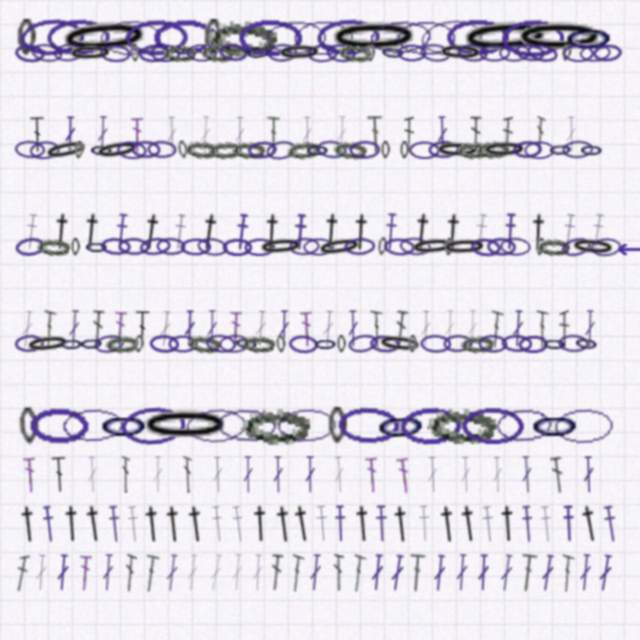chain: (57, 16, 152, 60), (458, 16, 553, 59), (327, 18, 421, 57), (513, 19, 606, 56), (139, 407, 232, 444), (418, 16, 486, 59), (19, 17, 85, 58), (367, 17, 433, 58), (120, 405, 186, 446), (208, 19, 277, 57), (241, 407, 310, 445), (184, 406, 249, 446), (427, 407, 496, 444), (98, 18, 163, 57), (60, 406, 125, 445), (46, 18, 110, 57), (316, 18, 380, 57), (214, 406, 278, 445), (275, 406, 339, 445), (337, 406, 401, 445), (399, 406, 463, 445), (552, 406, 616, 445), (124, 19, 188, 57), (493, 406, 555, 445), (264, 19, 327, 57), (501, 19, 564, 57), (153, 19, 217, 56), (238, 19, 302, 56), (446, 19, 510, 56), (461, 407, 525, 444), (395, 19, 458, 56), (29, 407, 90, 445), (292, 19, 354, 56), (374, 406, 428, 446), (563, 19, 615, 57), (98, 407, 150, 444), (529, 407, 581, 444), (43, 137, 90, 163), (94, 138, 141, 162), (316, 235, 363, 259), (570, 236, 616, 258), (25, 333, 71, 355), (377, 333, 423, 355), (258, 236, 304, 257), (410, 236, 456, 257), (68, 43, 113, 63), (442, 237, 487, 257), (277, 43, 322, 62), (438, 43, 483, 62), (482, 140, 527, 159), (18, 407, 40, 445), (525, 41, 559, 65), (435, 141, 480, 159), (560, 235, 593, 259), (286, 139, 321, 161), (514, 41, 546, 64), (347, 332, 379, 355), (30, 42, 63, 64), (419, 42, 452, 64), (196, 236, 229, 258), (325, 42, 357, 64), (265, 139, 297, 161), (93, 333, 125, 355), (17, 19, 36, 56), (204, 19, 223, 56), (328, 407, 347, 444), (200, 43, 234, 63), (338, 43, 372, 63), (208, 140, 242, 160), (333, 140, 367, 160), (456, 140, 490, 160), (105, 334, 139, 354), (187, 334, 221, 354), (460, 334, 494, 354), (53, 42, 85, 63), (14, 236, 46, 257), (139, 236, 171, 257), (399, 236, 431, 257), (205, 333, 237, 354), (218, 42, 249, 63), (316, 139, 347, 160), (99, 43, 131, 63), (138, 43, 170, 63), (579, 43, 611, 63), (383, 237, 415, 257), (590, 237, 622, 257), (185, 140, 218, 159), (476, 140, 509, 159), (14, 43, 45, 63), (307, 43, 338, 63), (457, 43, 488, 63), (592, 43, 623, 63), (29, 140, 60, 160), (116, 140, 147, 160), (247, 140, 278, 160), (470, 237, 501, 257), (288, 334, 319, 354), (369, 334, 400, 354), (14, 140, 46, 159), (163, 44, 196, 62), (232, 141, 265, 159), (37, 238, 70, 256), (537, 238, 570, 256), (242, 335, 275, 353), (499, 43, 530, 62), (349, 140, 380, 159), (428, 140, 459, 159), (512, 140, 543, 159), (562, 140, 593, 159), (100, 237, 131, 256), (118, 237, 149, 256), (289, 237, 320, 256), (344, 237, 375, 256), (486, 237, 517, 256), (500, 237, 531, 256), (14, 334, 45, 353), (219, 334, 250, 353), (420, 334, 451, 353), (501, 334, 532, 353), (558, 334, 589, 353), (267, 43, 297, 62), (131, 140, 161, 159), (147, 140, 177, 159), (156, 237, 186, 256), (149, 334, 179, 353), (443, 334, 473, 353), (478, 334, 508, 353), (245, 42, 272, 63), (233, 333, 260, 354), (573, 333, 600, 354), (150, 44, 181, 62), (186, 44, 217, 62), (479, 44, 510, 62), (563, 44, 594, 62), (409, 141, 440, 159), (524, 141, 555, 159), (180, 238, 211, 256), (244, 238, 275, 256), (303, 238, 334, 256), (397, 44, 427, 62), (222, 238, 252, 256), (168, 335, 198, 353), (518, 335, 548, 353), (380, 43, 406, 62), (548, 140, 573, 159), (79, 334, 104, 353), (89, 141, 114, 159), (305, 141, 330, 159), (579, 141, 604, 159), (84, 238, 109, 256), (59, 335, 84, 353), (313, 335, 338, 353), (542, 335, 567, 353), (177, 140, 189, 159), (561, 43, 572, 62), (377, 237, 388, 256), (535, 238, 546, 256), (130, 44, 140, 62), (74, 141, 84, 159), (444, 238, 454, 256), (134, 335, 144, 353), (276, 335, 286, 353), (366, 44, 375, 62), (381, 141, 390, 159), (400, 141, 409, 159), (71, 238, 80, 256), (337, 335, 346, 353), (408, 335, 417, 353)
double: (140, 554, 160, 592), (518, 554, 538, 592), (207, 554, 225, 592), (349, 554, 367, 592), (408, 554, 426, 592), (288, 554, 305, 592), (389, 554, 406, 592), (498, 554, 515, 592), (539, 554, 556, 592), (597, 554, 614, 592), (367, 116, 384, 153), (51, 456, 68, 493), (19, 310, 35, 348), (157, 310, 173, 348), (393, 310, 409, 348), (488, 310, 504, 348), (396, 456, 412, 494), (550, 456, 566, 494), (14, 554, 30, 592), (164, 554, 180, 592), (559, 554, 575, 592), (41, 310, 57, 347), (122, 554, 137, 592), (185, 554, 200, 592), (432, 554, 447, 592), (30, 116, 45, 153), (265, 116, 280, 153), (135, 310, 150, 347), (253, 310, 268, 347), (269, 554, 284, 591), (308, 554, 323, 591), (370, 554, 385, 591), (578, 554, 593, 591), (67, 310, 81, 347), (91, 310, 105, 347), (113, 310, 127, 347), (321, 310, 335, 347), (511, 310, 525, 347), (535, 310, 549, 347), (23, 456, 37, 493), (332, 456, 346, 493), (365, 456, 379, 493), (520, 456, 534, 493), (34, 554, 48, 591), (56, 554, 70, 591), (78, 554, 92, 591), (101, 554, 115, 591), (230, 554, 244, 591), (455, 554, 469, 591), (96, 116, 109, 153), (199, 116, 212, 153), (335, 116, 348, 153), (436, 116, 449, 153), (183, 310, 196, 347), (229, 310, 242, 347), (300, 310, 313, 347), (370, 310, 383, 347), (419, 310, 432, 347), (443, 310, 456, 347), (466, 310, 479, 347), (86, 456, 99, 493), (211, 456, 224, 493), (426, 456, 439, 493), (459, 456, 472, 493), (491, 456, 504, 493), (582, 456, 595, 493), (251, 554, 264, 591), (477, 554, 490, 591), (64, 116, 76, 153), (131, 116, 143, 153), (166, 116, 178, 153), (234, 116, 246, 153), (301, 116, 313, 153), (470, 116, 482, 153), (534, 116, 546, 153), (565, 116, 577, 153), (206, 310, 218, 347), (278, 310, 290, 347), (347, 310, 359, 347), (584, 310, 596, 347), (152, 456, 164, 493), (242, 456, 254, 493), (272, 456, 284, 493), (304, 456, 316, 493), (332, 554, 344, 591), (502, 116, 513, 153), (559, 310, 570, 347), (404, 116, 414, 153), (121, 456, 130, 493), (183, 456, 192, 493)
half_double: (138, 212, 165, 252), (196, 212, 223, 252), (409, 212, 435, 251), (577, 504, 603, 543), (49, 212, 74, 251), (79, 212, 104, 251), (319, 212, 344, 251), (290, 504, 315, 543), (82, 504, 106, 543), (457, 504, 481, 543), (260, 213, 284, 251), (349, 213, 373, 251), (441, 213, 465, 251), (184, 505, 208, 543), (272, 505, 296, 543), (436, 505, 460, 543), (527, 213, 550, 251), (17, 505, 40, 543), (141, 505, 164, 543), (162, 505, 185, 543), (390, 505, 413, 543), (61, 505, 83, 542), (352, 505, 374, 542), (497, 505, 519, 542), (250, 505, 271, 542), (588, 213, 607, 251), (601, 505, 620, 543), (22, 213, 40, 251), (171, 213, 189, 251), (233, 213, 251, 251), (472, 213, 490, 251), (560, 213, 578, 251), (40, 505, 58, 543), (229, 505, 247, 543), (113, 213, 130, 251), (106, 505, 123, 543), (125, 505, 142, 543), (209, 505, 226, 543), (480, 505, 497, 543), (519, 505, 536, 543), (538, 505, 555, 543), (292, 213, 308, 251), (383, 213, 399, 250), (502, 213, 518, 250), (314, 505, 330, 542), (333, 505, 348, 542), (374, 505, 389, 542), (417, 505, 432, 542), (561, 505, 576, 542)
noise: (615, 244, 640, 255)
